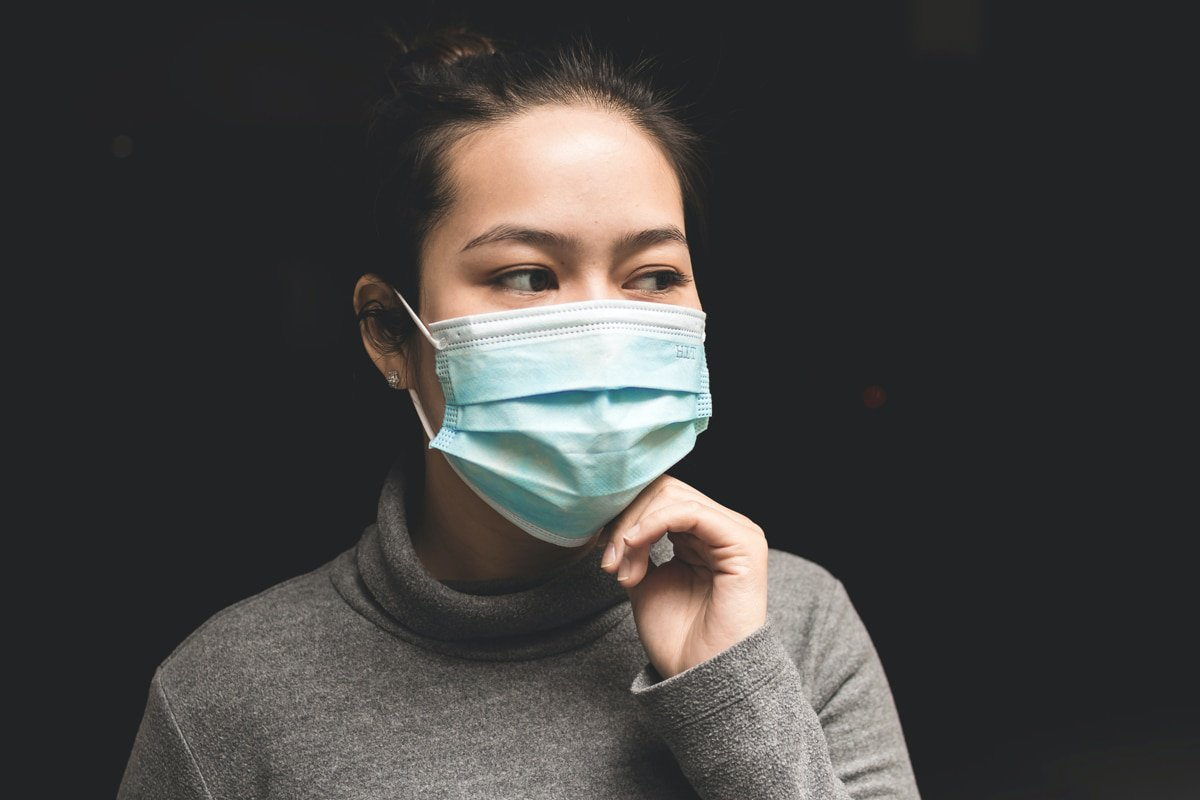mask: (355, 76, 740, 560)
